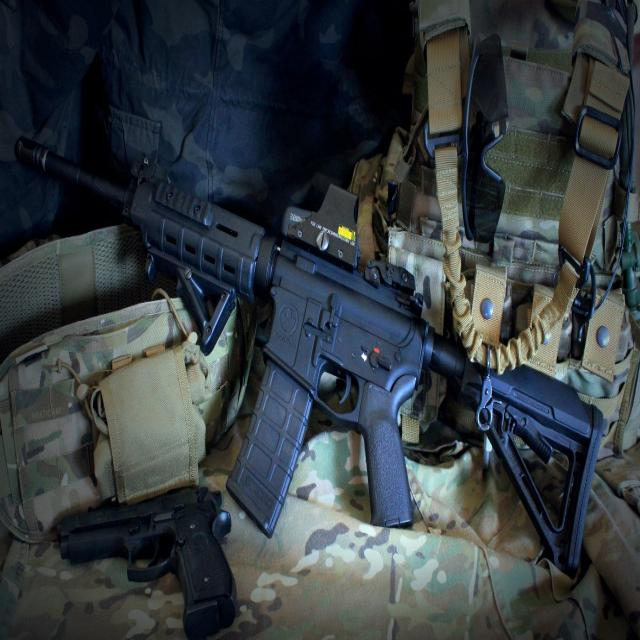firearm: (13, 130, 603, 578)
pistol: (59, 485, 240, 638)
